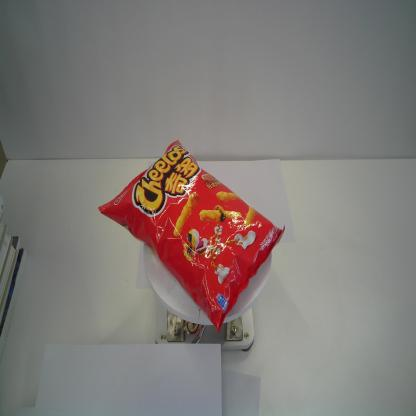Puffed Food: (97, 139, 286, 334)
